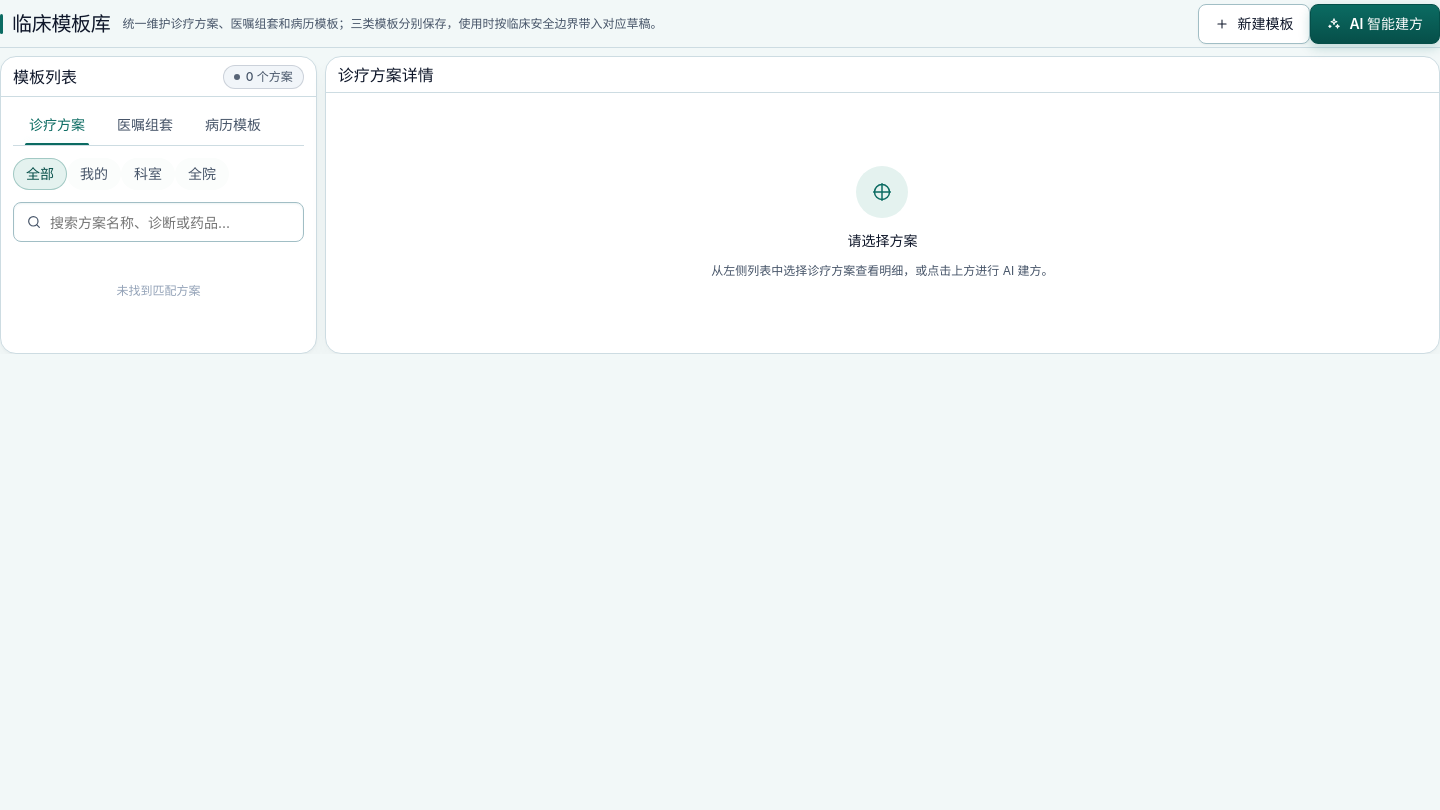
Test case: order sets in the library › saves edits with row default selection and execution department, as an ORDER_SET update
Click the tab "医嘱组套".
click(145, 125)  # box [101, 105, 189, 145]
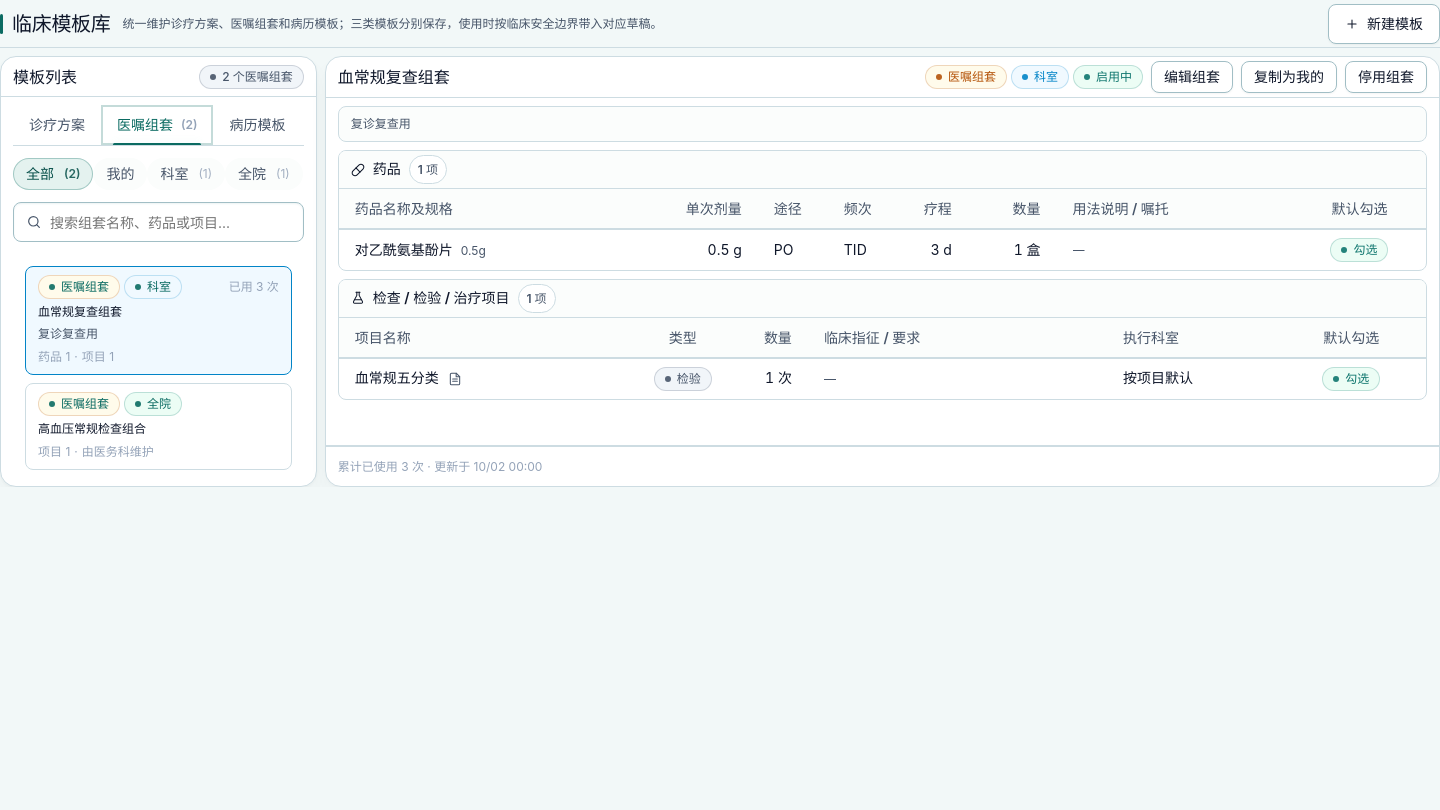
Click the button "编辑组套".
click(1192, 77)  # box [1151, 61, 1233, 93]
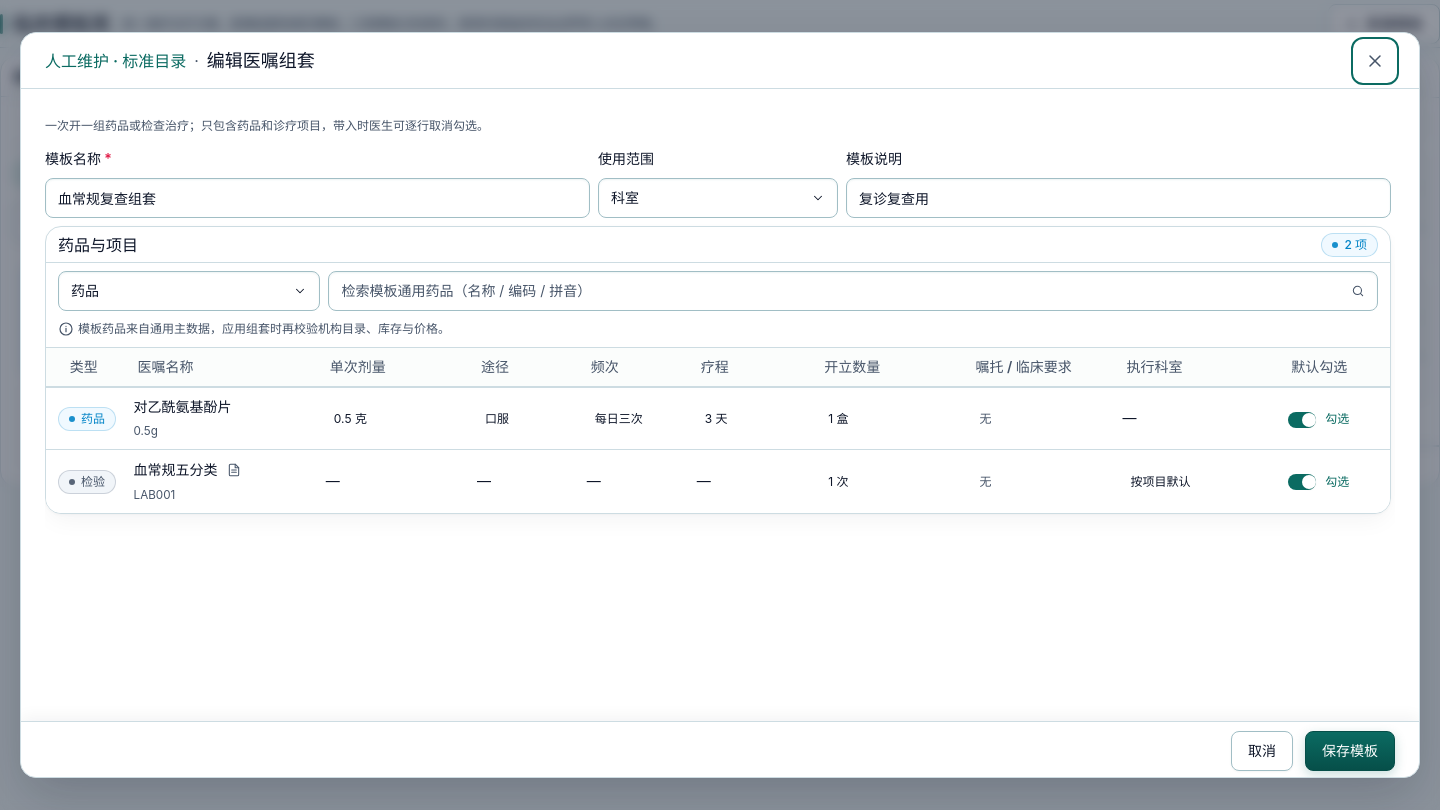
Expected: the heading "编辑医嘱组套" is shown, [207, 47, 315, 74]
Click the switch named "血常规五分类 默认勾选".
click(1302, 482)  # box [1287, 474, 1317, 492]
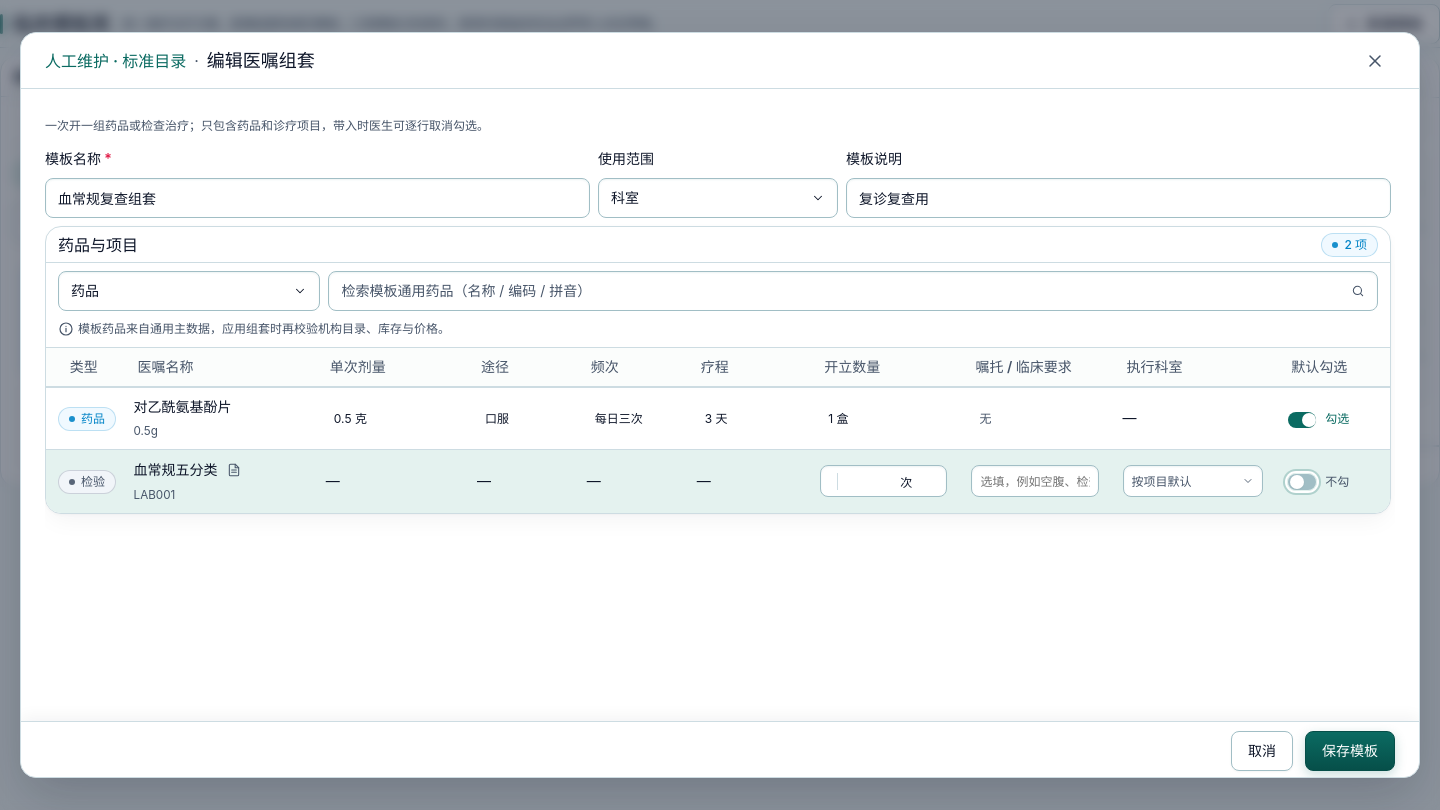
Click the dropdown named "血常规五分类 执行科室".
click(1193, 482)  # box [1122, 466, 1263, 498]
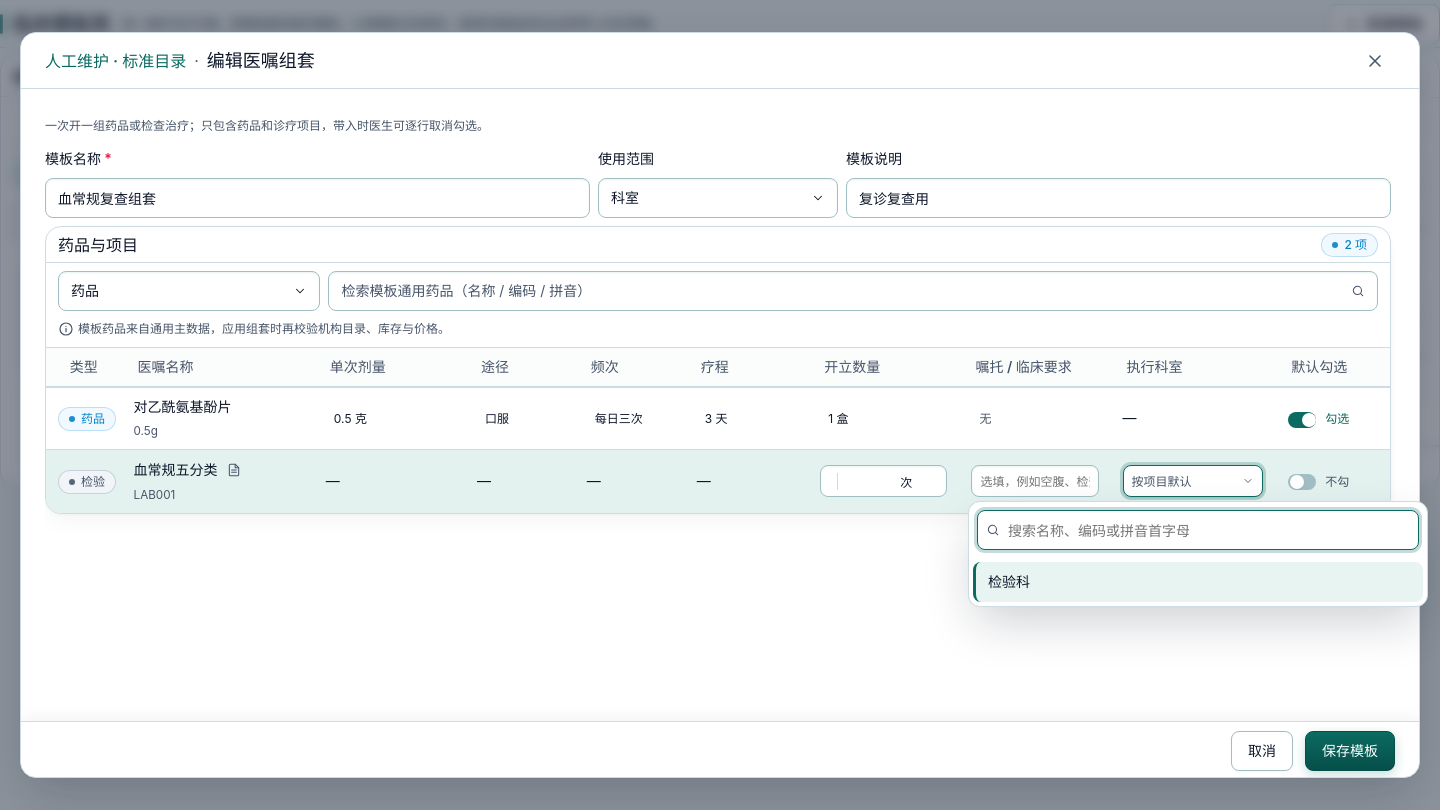
Click the option "检验科".
click(1009, 582)  # box [973, 562, 1423, 602]
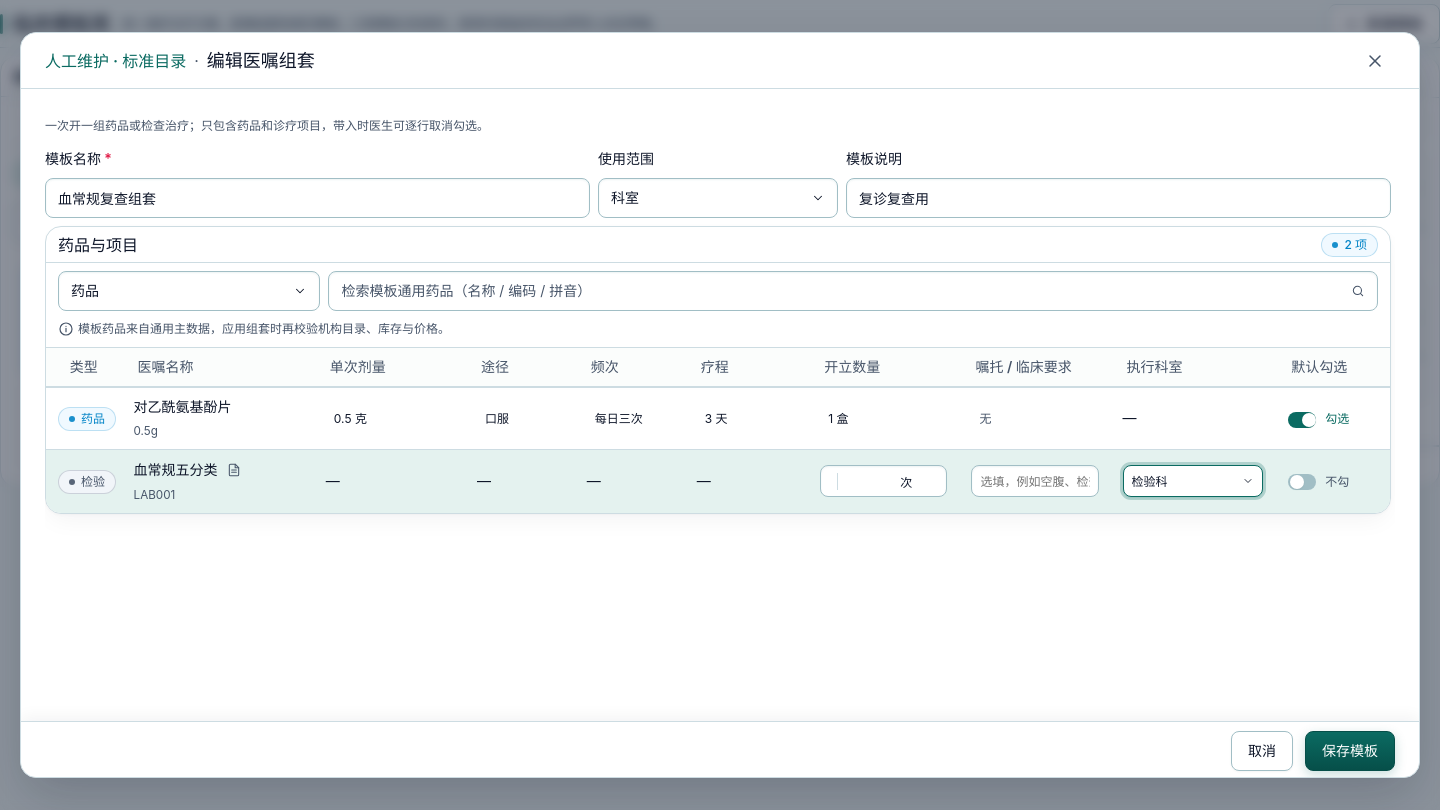
Click the button "保存模板".
click(1350, 751)  # box [1305, 731, 1395, 771]
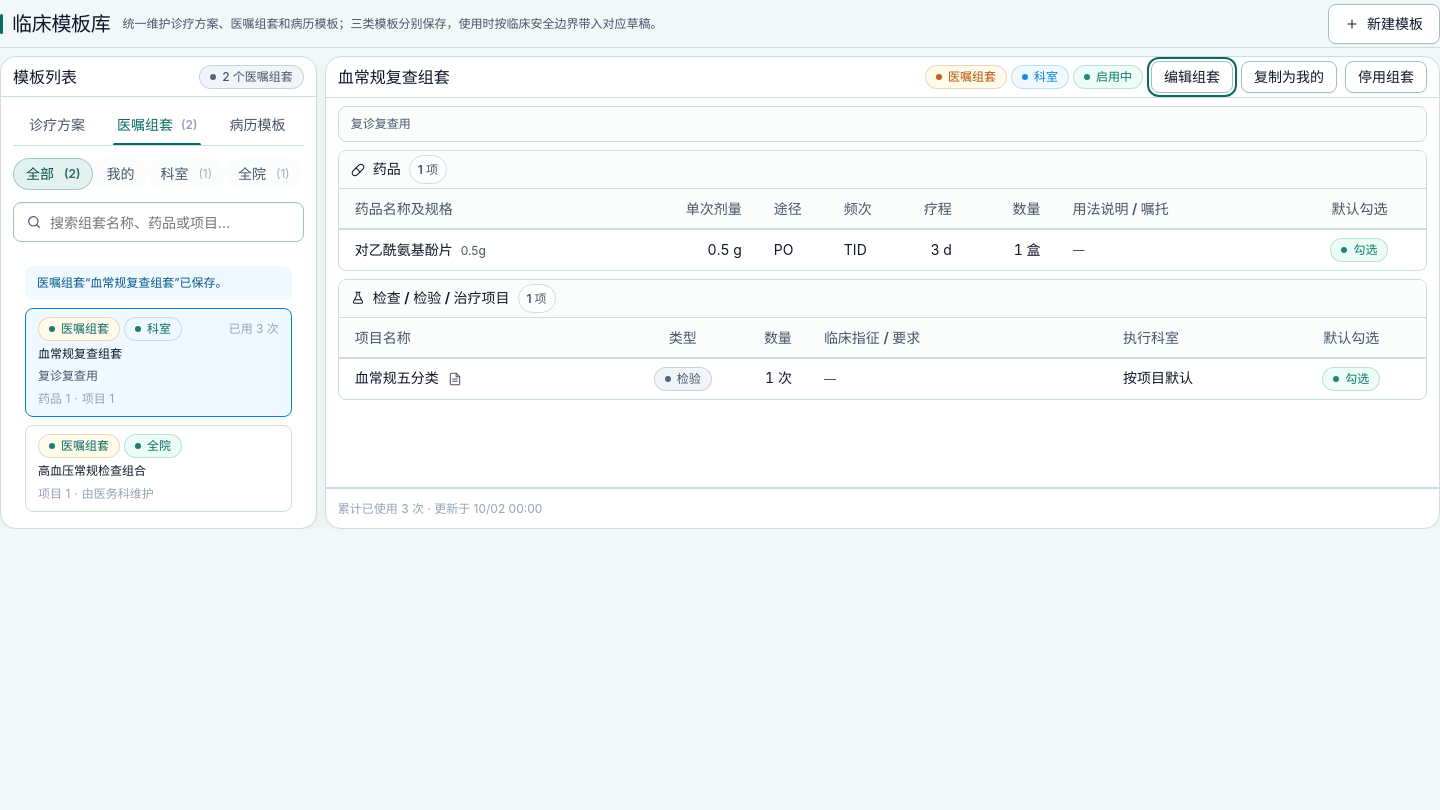
Expected: the text "医嘱组套“血常规复查组套”已保存。" is shown, [25, 266, 292, 300]
